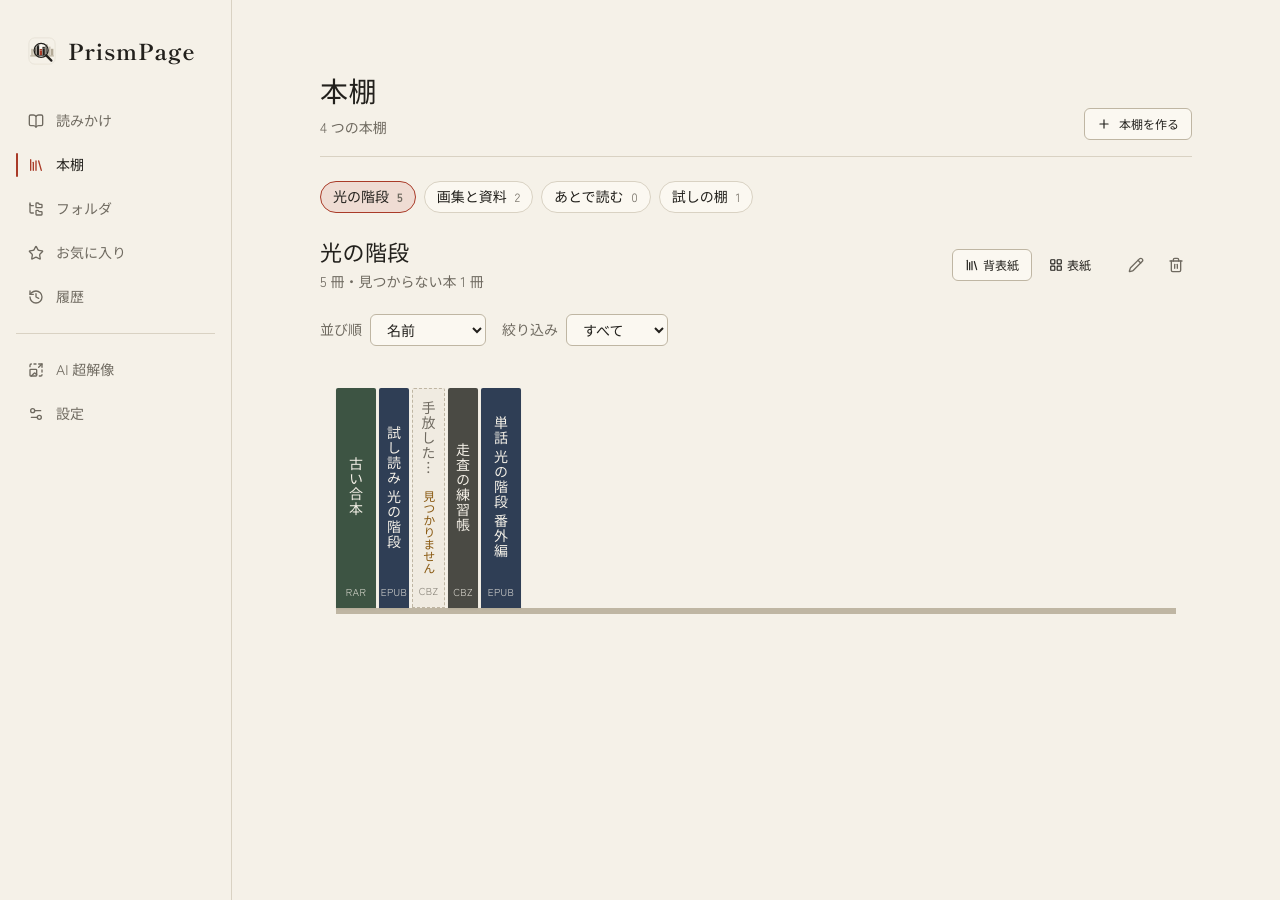
Test: 本棚 › 本棚の本を並び替えて絞り込み、並び順は本棚画面の分として覚える
This screenshot has width=1280, height=900.
Select "最近読んだ" in the dropdown labelled "並び順" at point(428, 330), box x1=370 y1=314 x2=486 y2=346
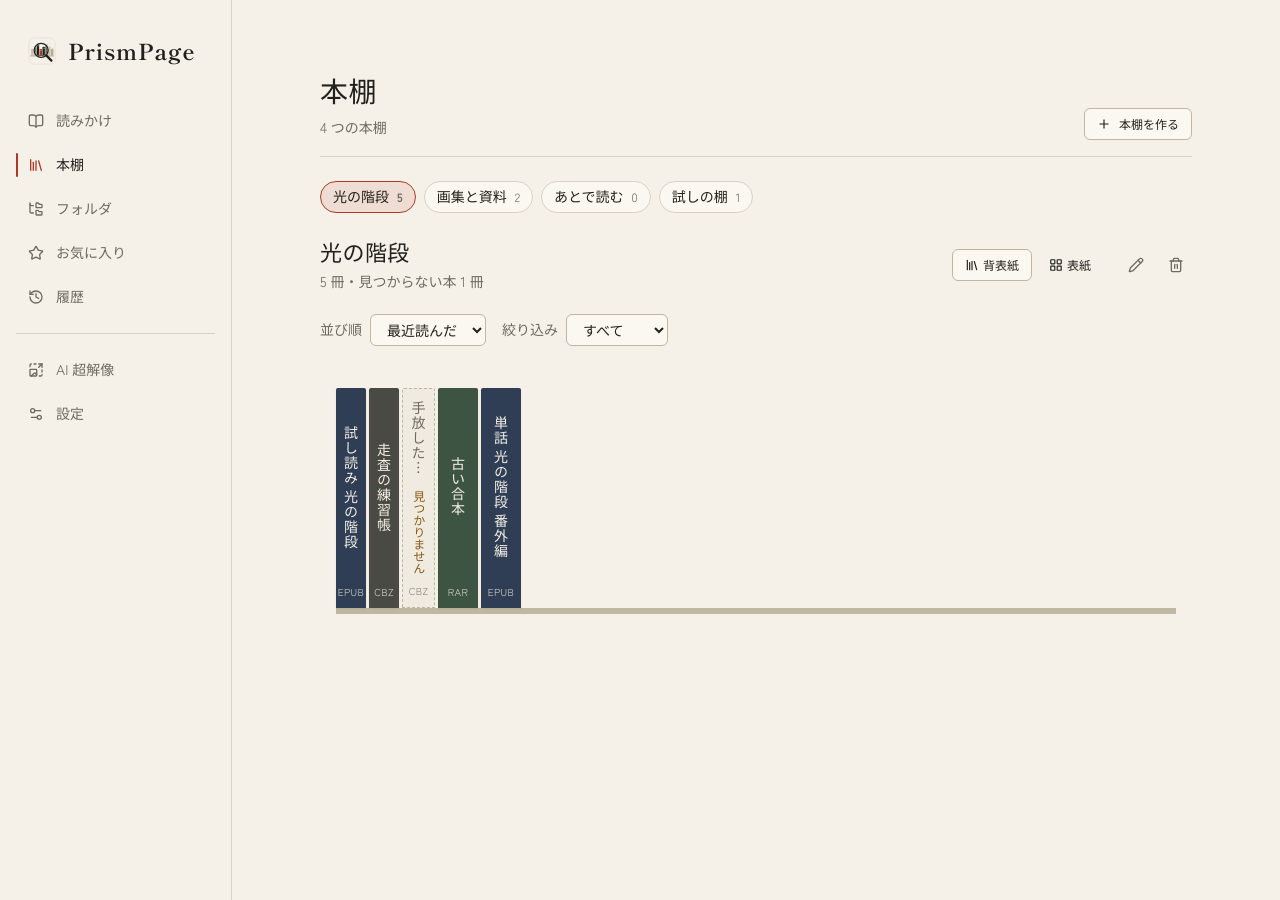
Select "未読" in the dropdown labelled "絞り込み" at point(617, 330), box x1=566 y1=314 x2=668 y2=346
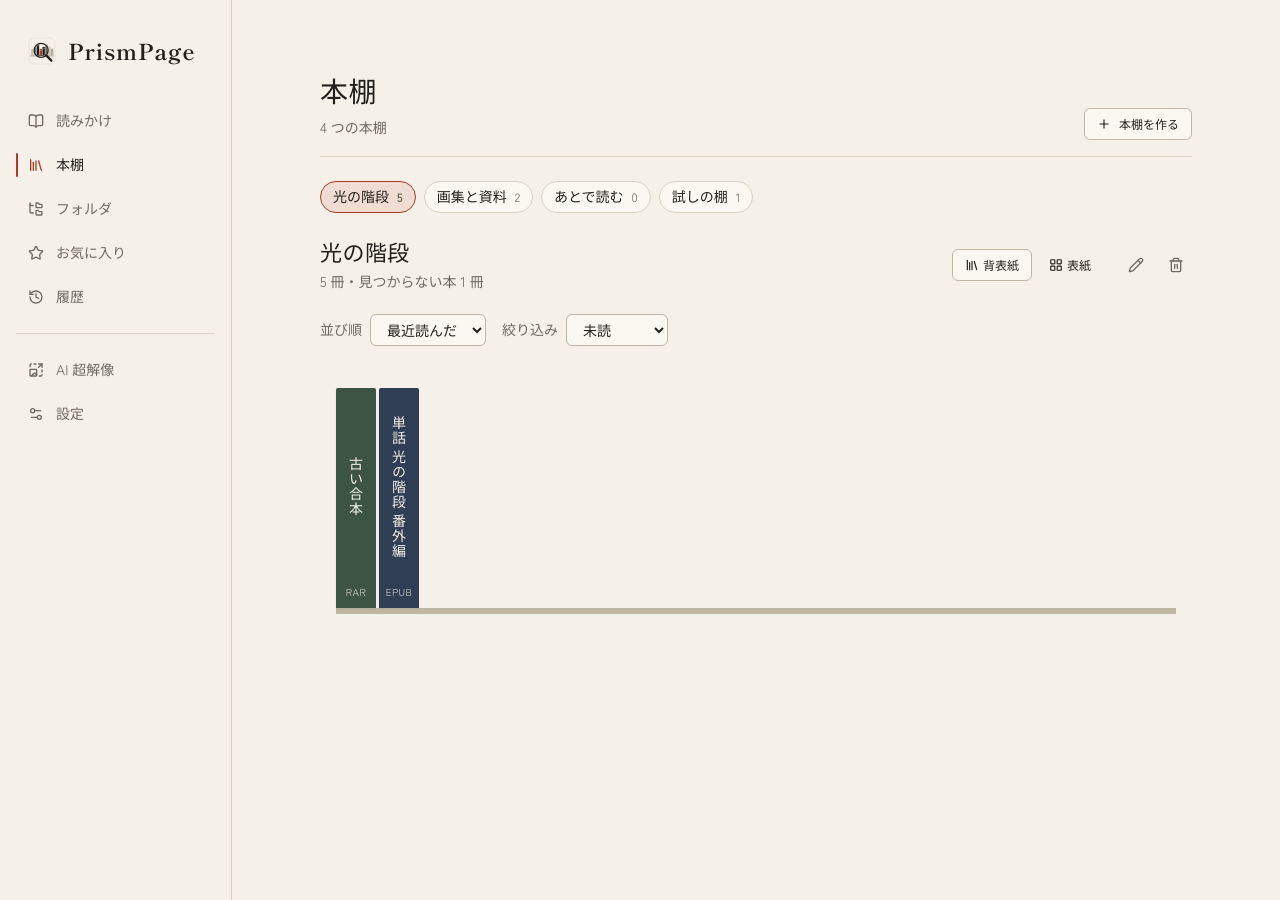
Select "読了" in the dropdown labelled "絞り込み" at point(617, 330), box x1=566 y1=314 x2=668 y2=346
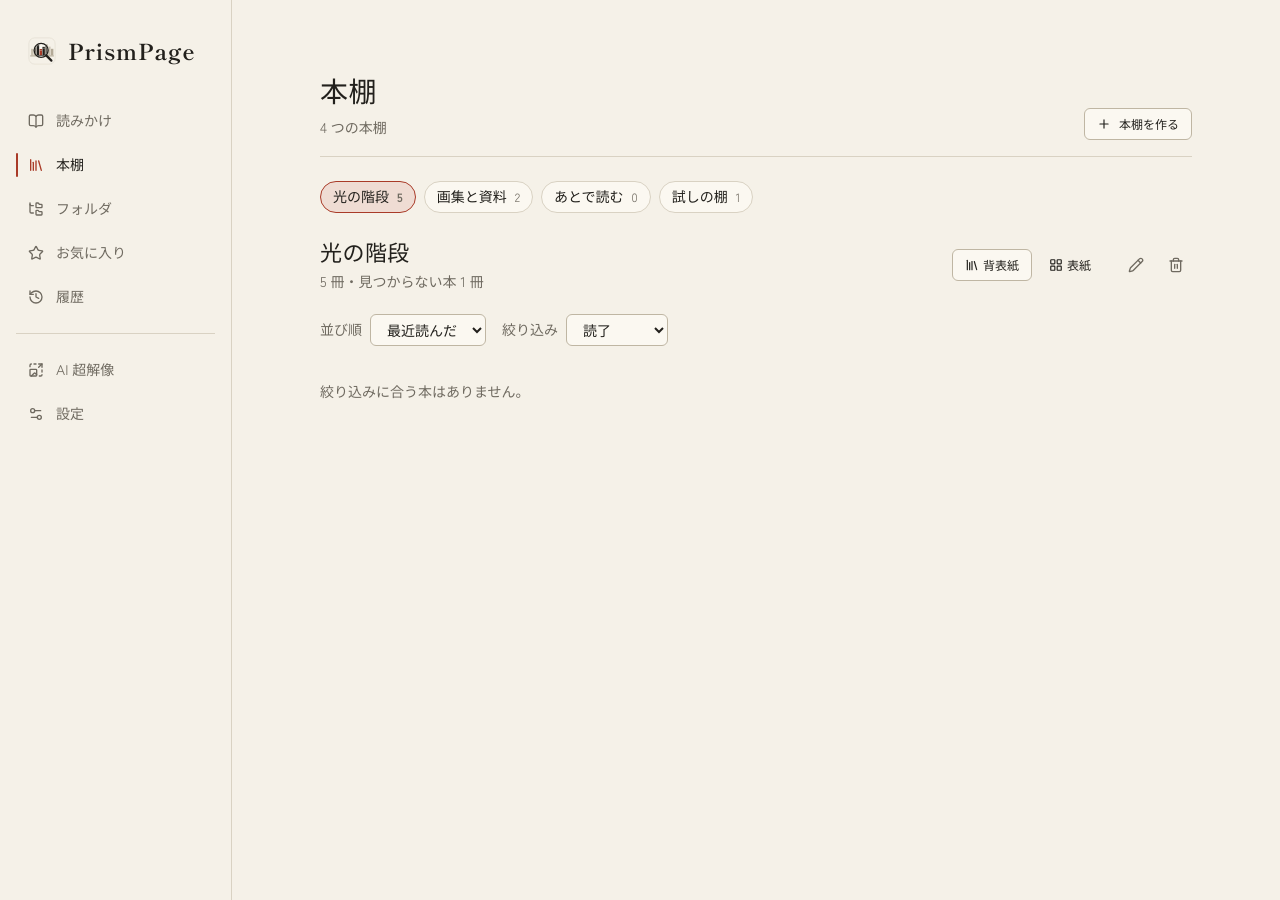
Now the list "本(背表紙)" is gone
Now the text "絞り込みに合う本はありません。" is shown, box x1=320 y1=381 x2=530 y2=401
